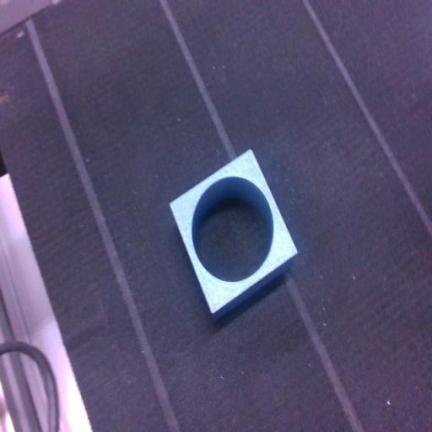square: (171, 151, 296, 315)
